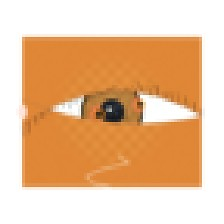foreign_body_visible: (79, 99, 119, 130)
